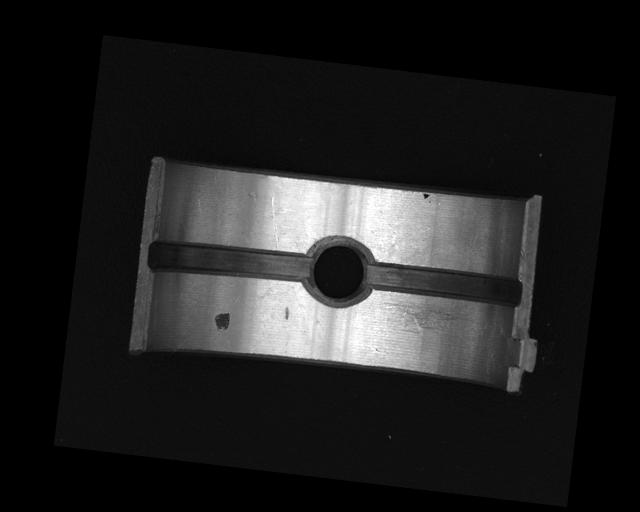blot: (213, 311, 231, 332), (422, 192, 432, 203)
bruise: (282, 306, 290, 320)
gap: (146, 236, 314, 292), (365, 260, 523, 304)
hole: (305, 233, 376, 309)
nick: (264, 196, 283, 248)
scratch: (376, 297, 481, 335)
